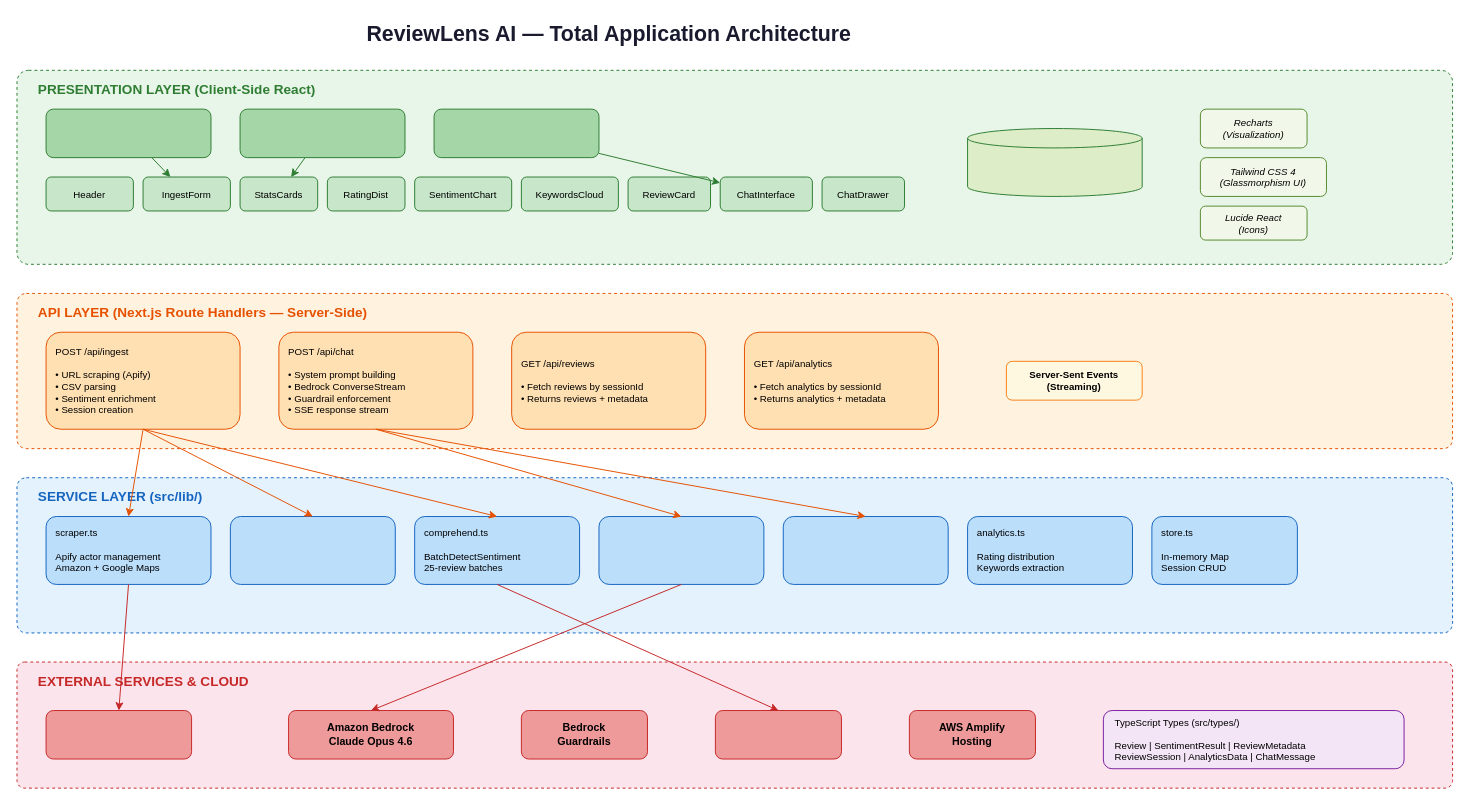
Some shapes in this 1470 by 805 pixel diagram are drawn without their labels. The shapes that lost their labels are listed below. From the top down, each one's box as (x1, y1, x2, y2) in pixels, then its label:
(45, 108, 211, 158): / (Home Page) Landing + IngestForm
(239, 108, 405, 158): /dashboard Analytics + ChatDrawer
(433, 108, 599, 158): /chat Full-page ChatInterface
(967, 128, 1142, 196): sessionStorage (reviews, metadata, analytics)
(229, 516, 395, 584): csv-parser.ts Auto-header detection Rating/date normalization
(598, 516, 764, 584): bedrock.ts ConverseStream client Guardrail assessment
(782, 516, 948, 584): prompts.ts System prompt builder Scope guard rules
(45, 710, 192, 759): Apify (Web Scraping)
(714, 710, 841, 759): Amazon Comprehend
